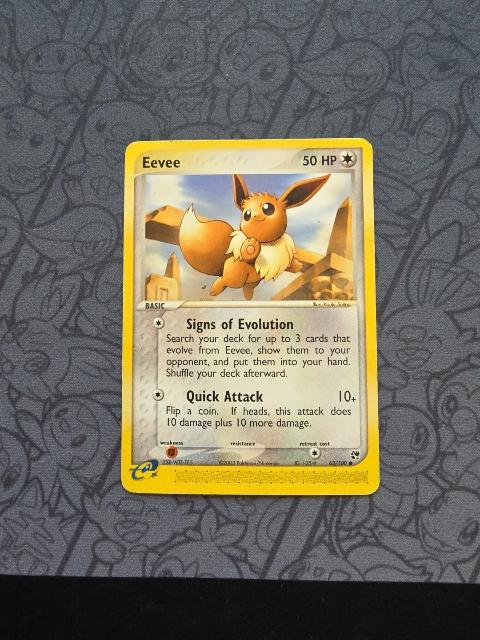Card: (113, 134, 386, 499)
Name: (136, 151, 186, 174)
